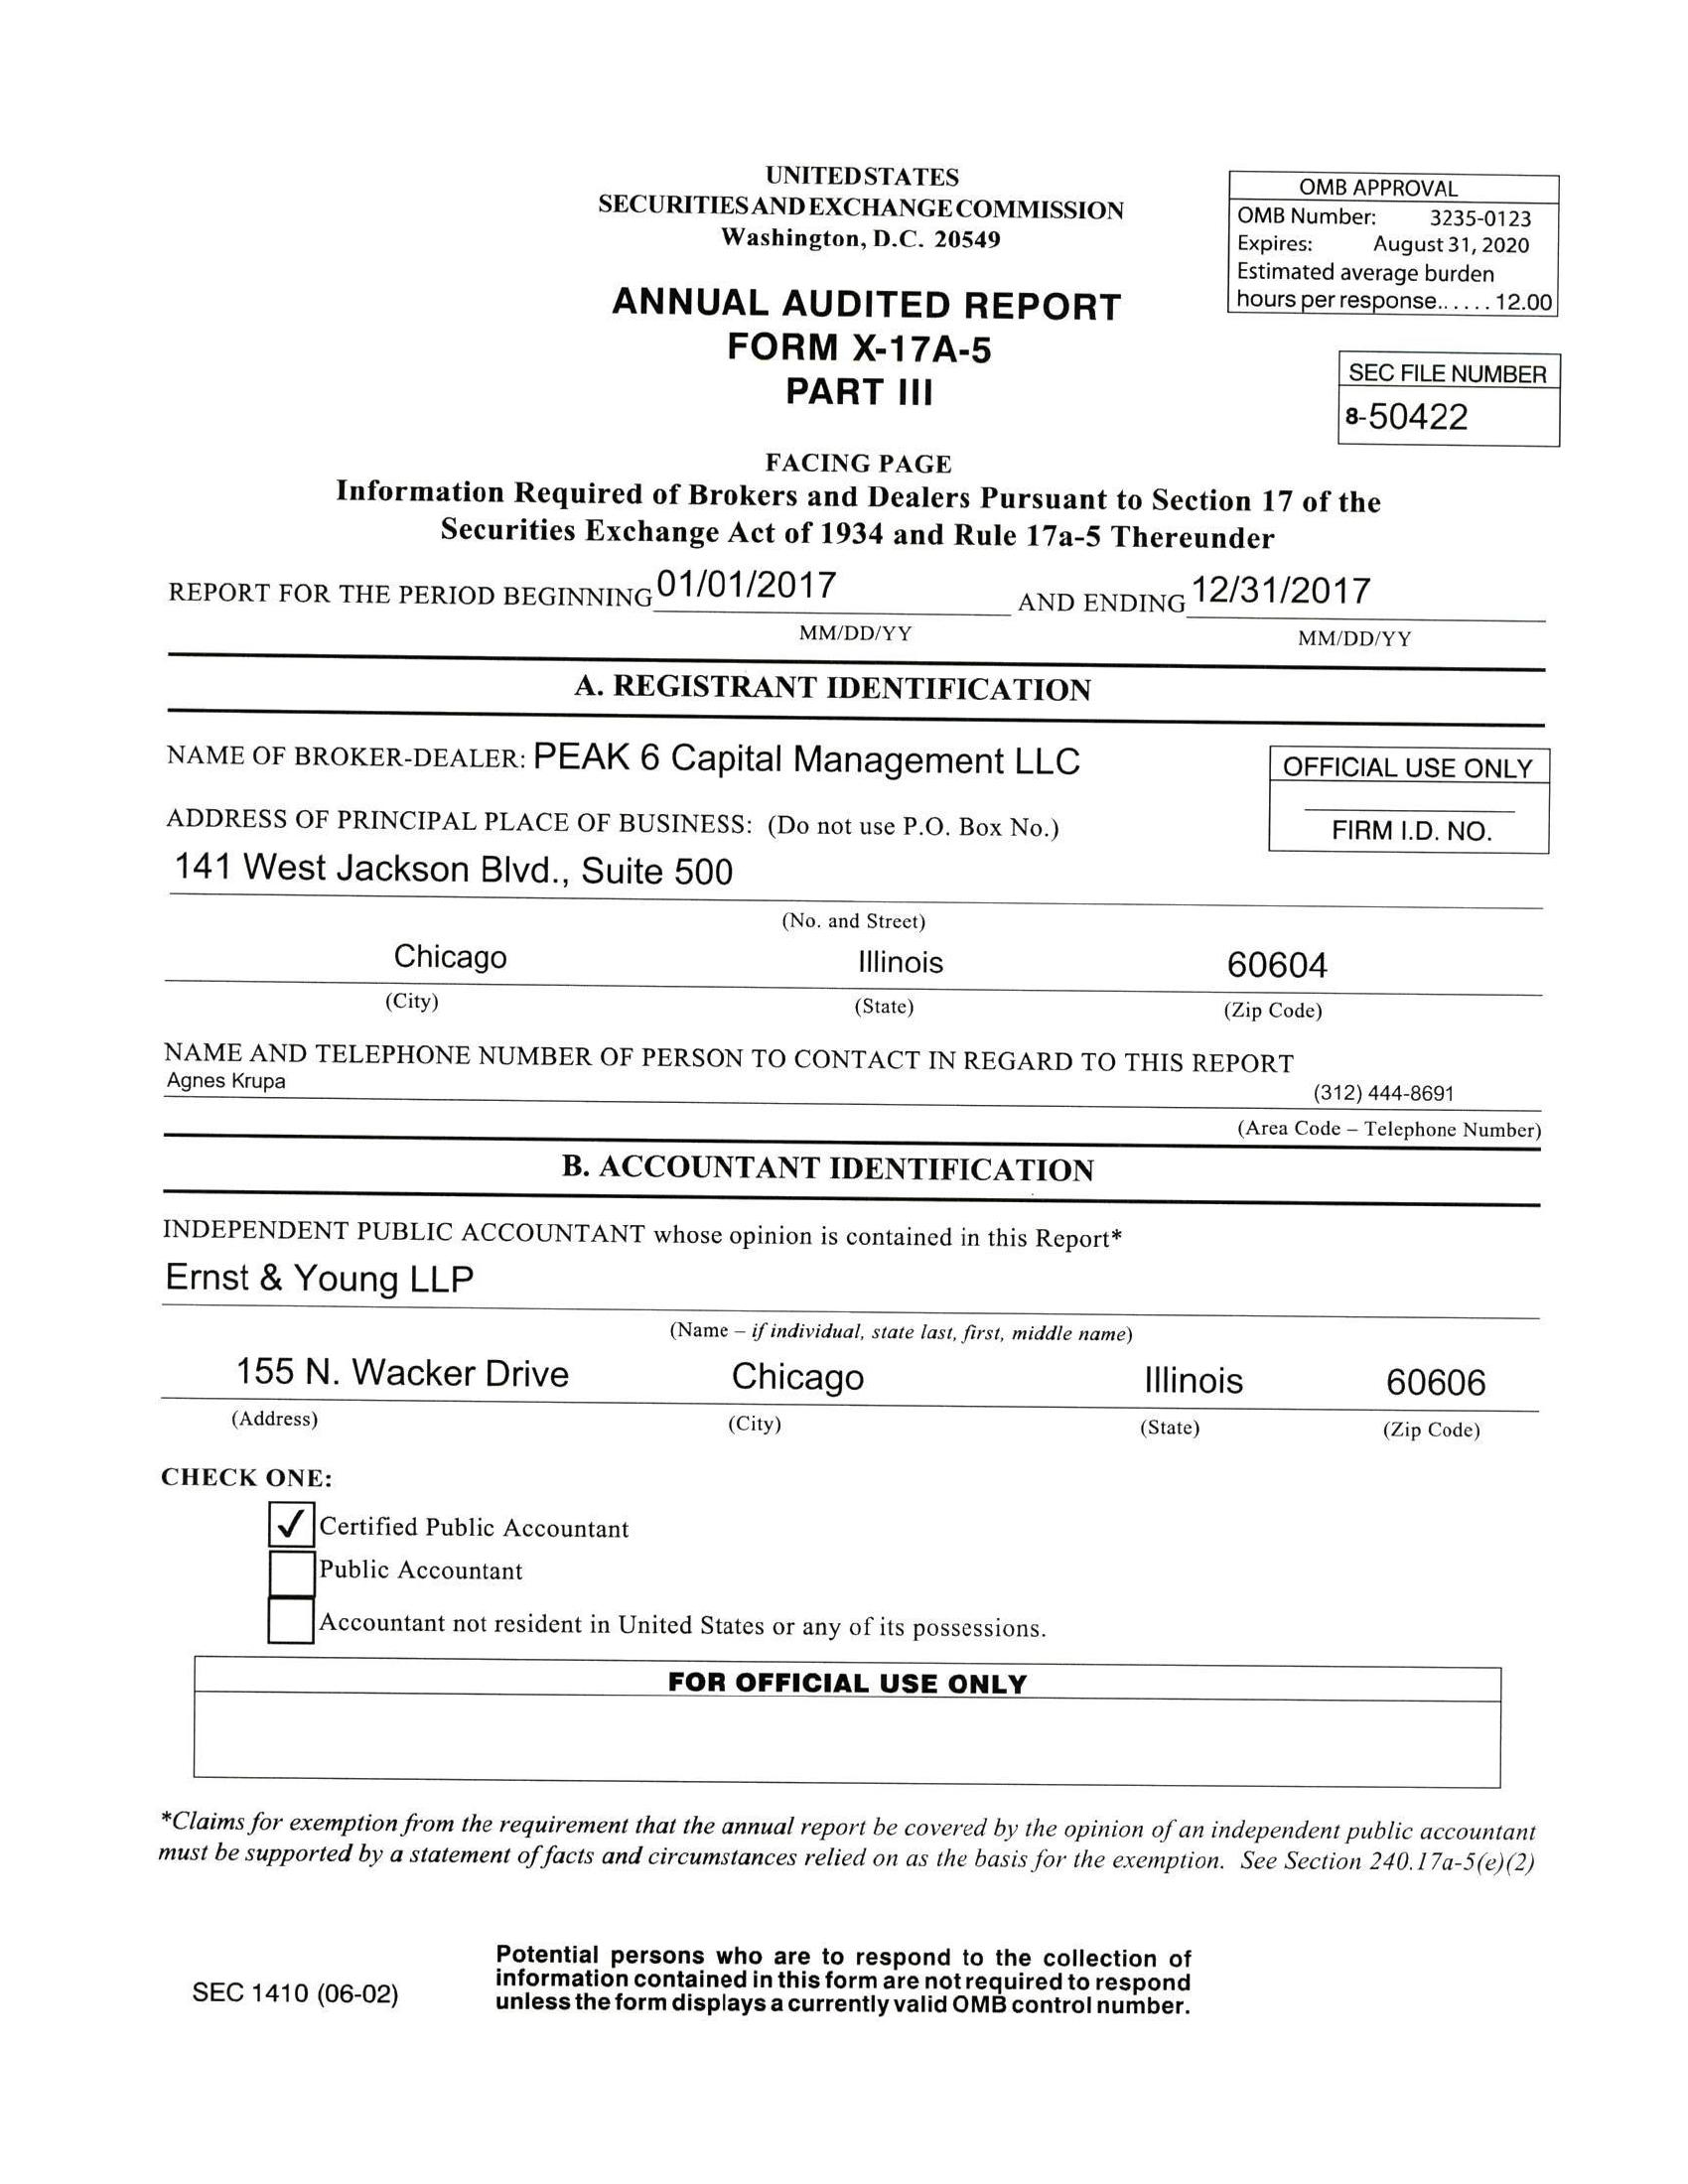table: (144, 473, 1557, 1794)
